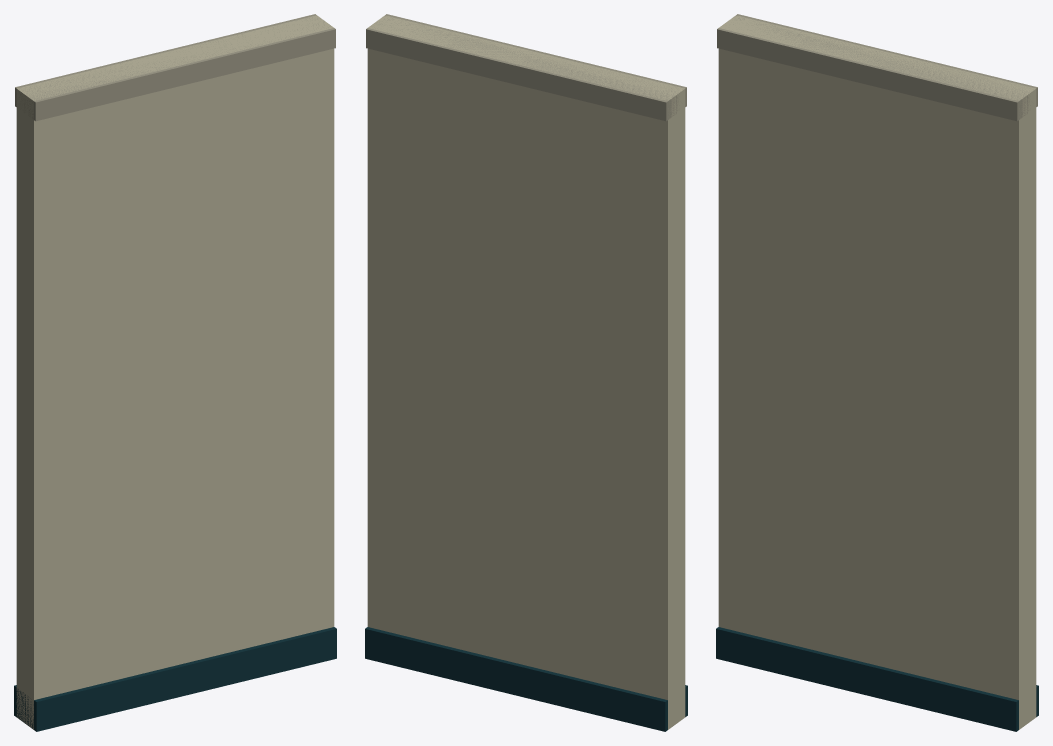
The model's file is WP_A06_hall_wall_8m_v02.glb.
3 views of the same model, side by side, from view 1: azimuth 30°, elevation 25°; view 2: azimuth 150°, elevation 25°; view 3: azimuth 330°, elevation 25° (orthographic).
Visible parts, largest first — view 1: Wall.001; view 2: Wall.001; view 3: Wall.001.
Part boxes in pixels (left/top/right/bottom): Wall.001: left=14, top=14, right=336, bottom=731; Wall.001: left=365, top=14, right=687, bottom=731; Wall.001: left=716, top=14, right=1038, bottom=731.
Bounding box in the file's own units: 4 × 8 × 0.52.
